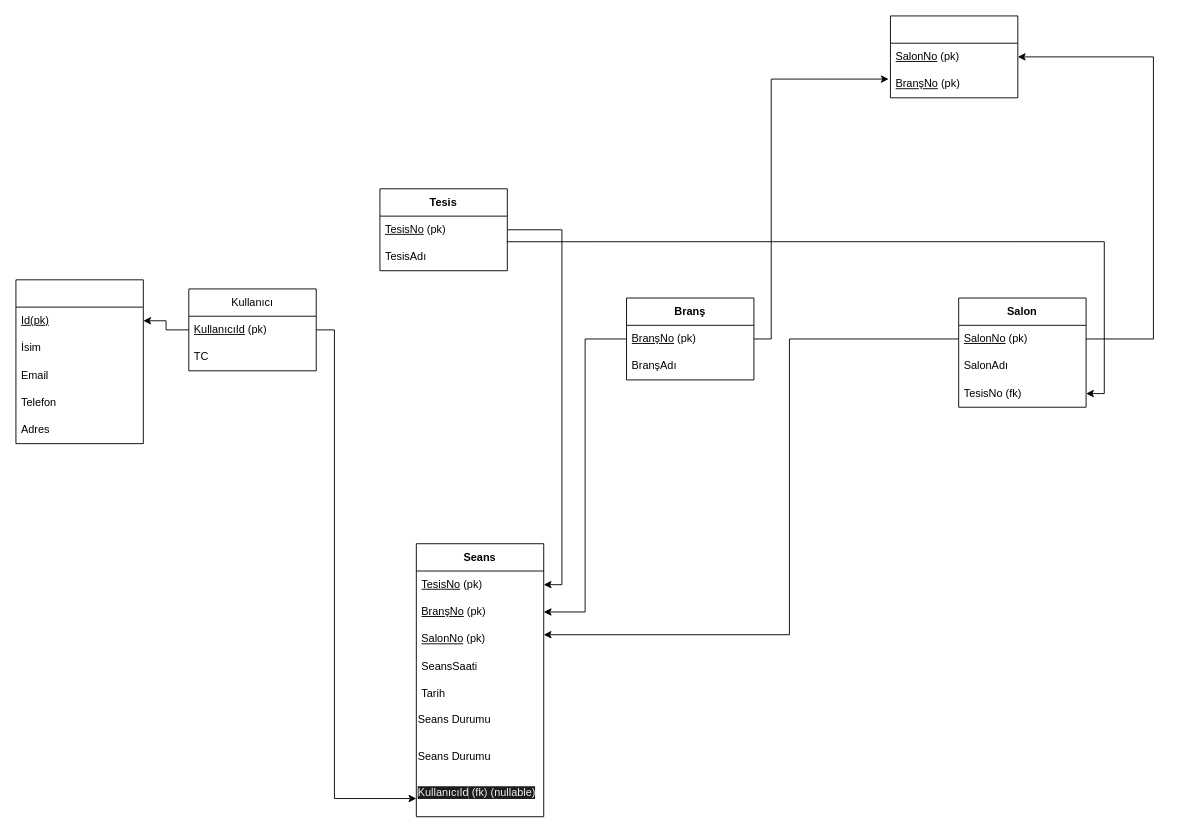
Some shapes in this 1177 by 833 pixel diagram are drawn without their labels. The box of each missing label's shape, as (x1, y1, x2, y2) in pixels:
KullanıcıDetayı: (15, 279, 143, 444)
SalonBranş: (890, 15, 1018, 98)
